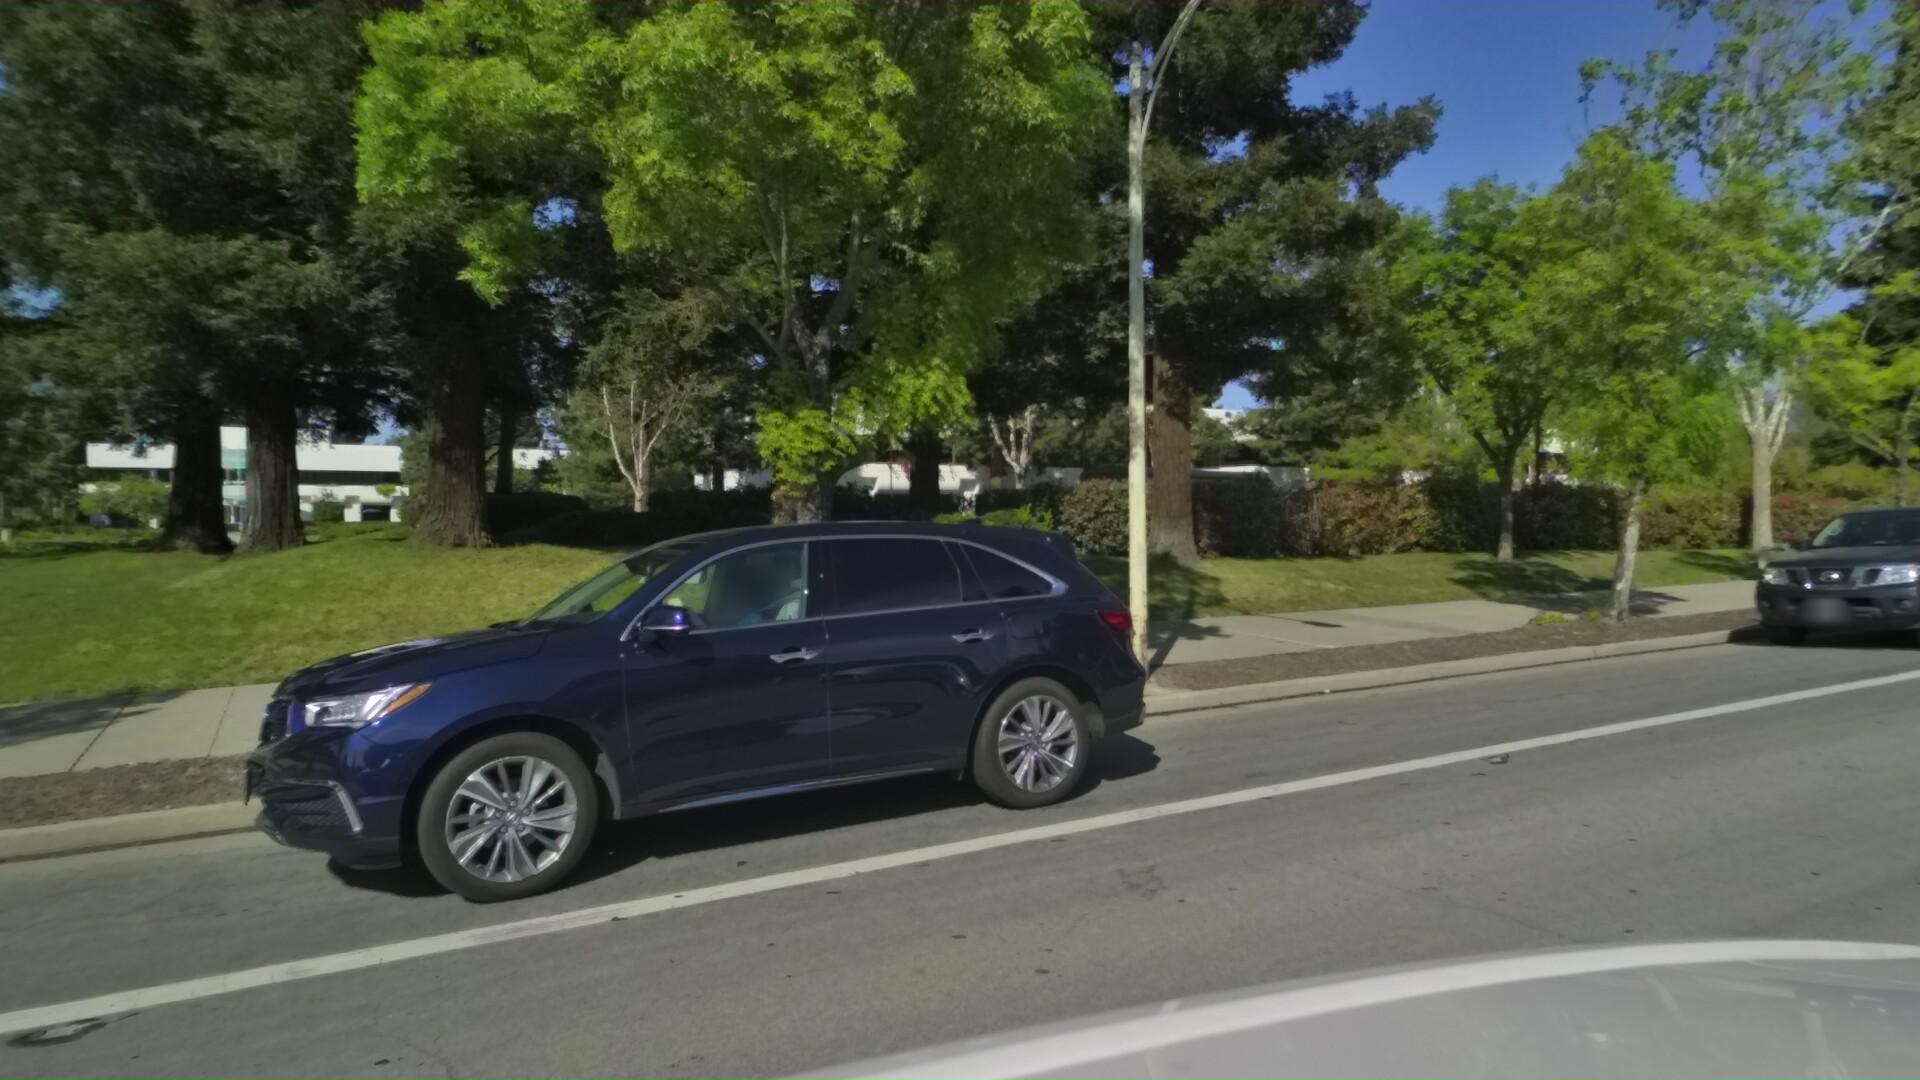car: (146, 483, 1129, 973), (1718, 488, 1920, 655)
